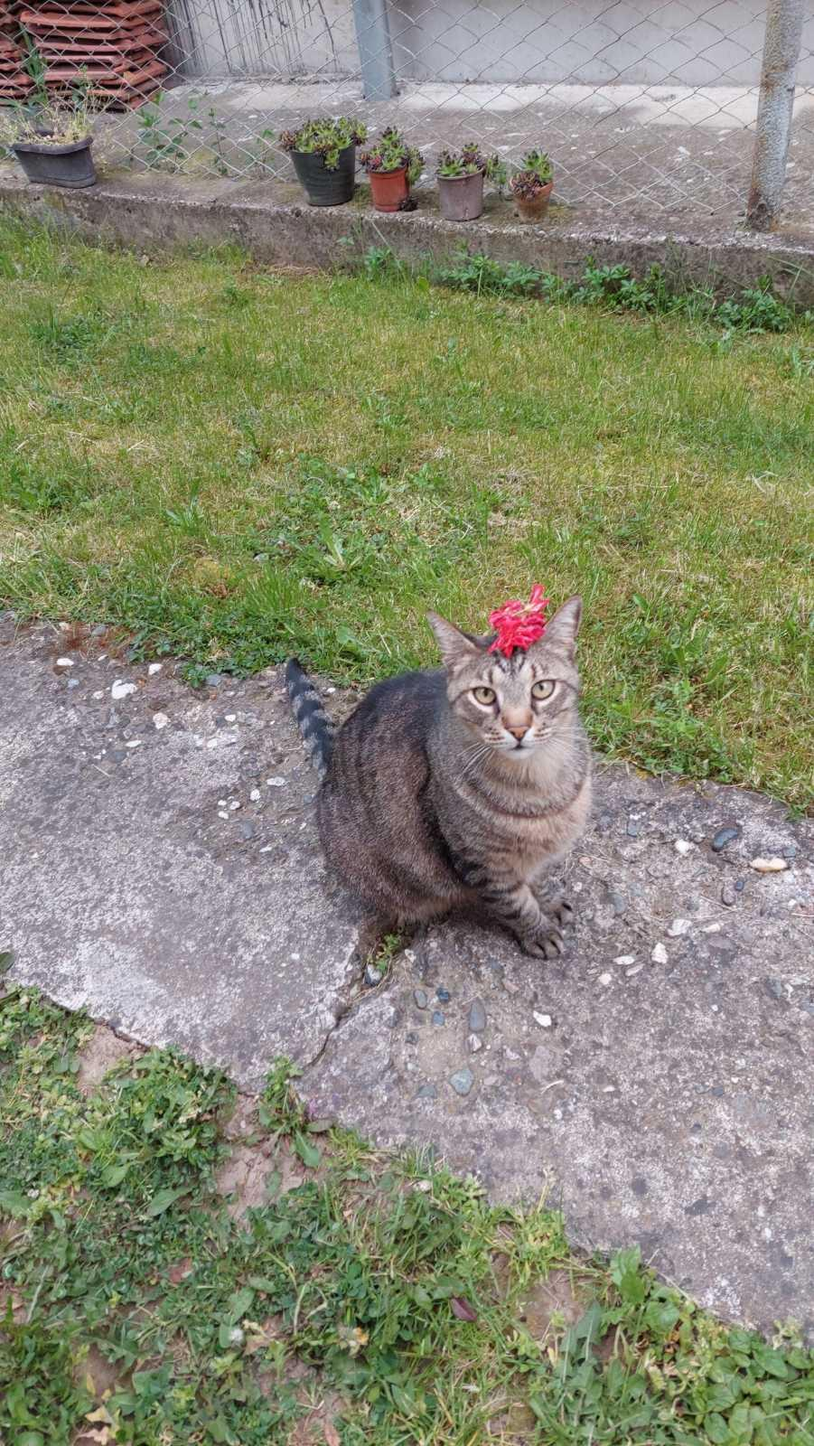macka: (285, 596, 593, 963)
